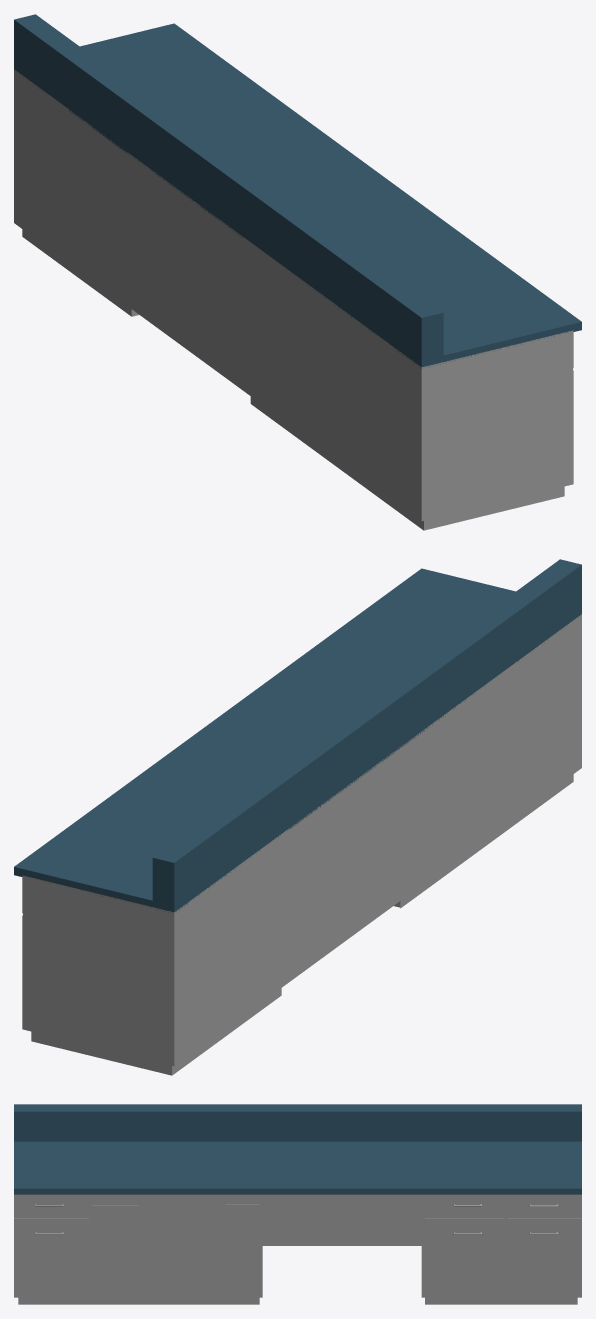
File: lab_bench.glb
3 renders of one model, top to bottom at view 1: azimuth 30°, elevation 25°; view 2: azimuth 150°, elevation 25°; view 3: azimuth 270°, elevation 25°, orthographic. The views are drawn at different scales.
Visible parts, largest first — view 1: Cube.005, Cube.000; view 2: Cube.005, Cube.000; view 3: Cube.005, Cube.000.
Boxes of the visible parts, x1,y1,x2,y2 form: Cube.005: (14,69,573,530); Cube.000: (14,14,581,368); Cube.005: (22,614,581,1075); Cube.000: (14,559,581,913); Cube.005: (14,1194,581,1304); Cube.000: (14,1104,581,1194).
Bounding box in the file's own units: 1.59 × 2.05 × 7.
